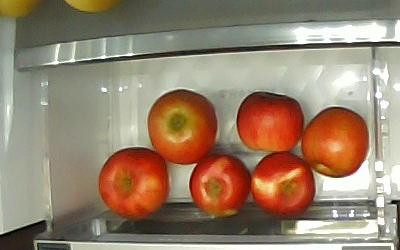apple: (146, 87, 217, 165), (97, 145, 170, 219), (299, 105, 369, 178), (249, 150, 315, 217), (235, 89, 304, 153), (188, 153, 251, 216)
